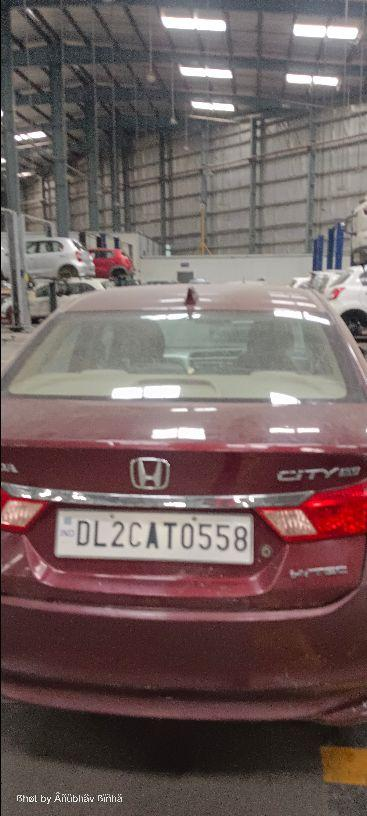license_plate: (52, 505, 255, 566)
